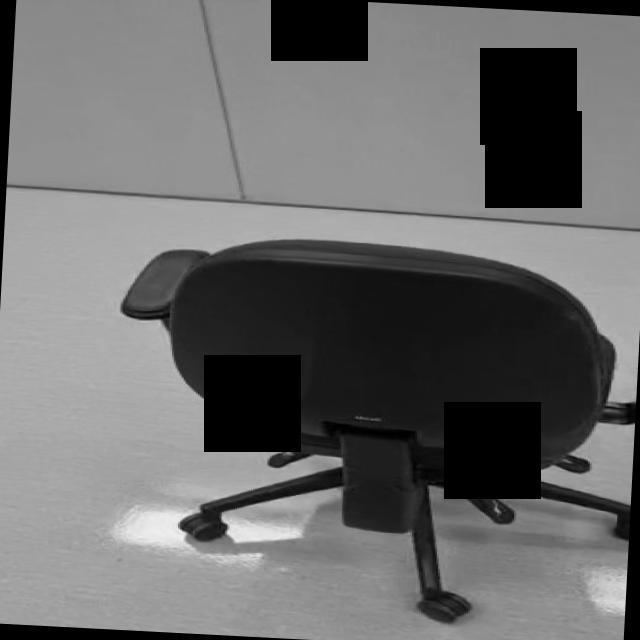chair: (103, 229, 640, 630)
